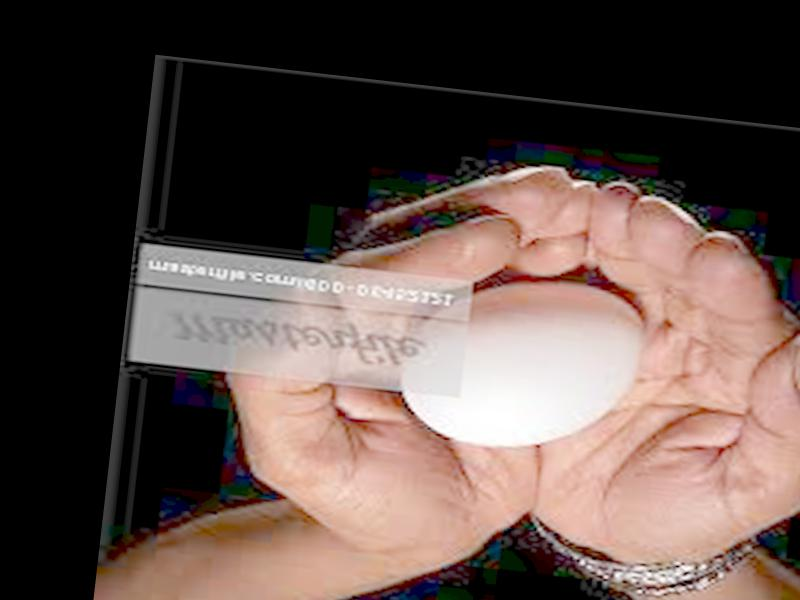Eggs: (395, 263, 651, 462)
